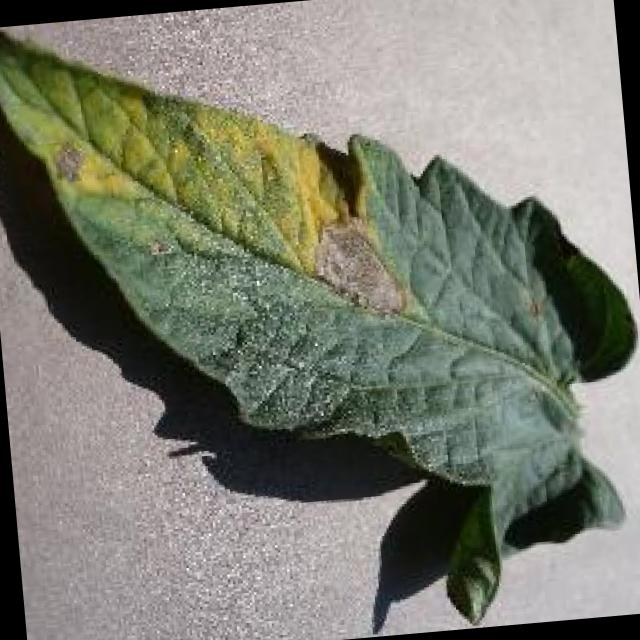Tomato_Early_Blight: (0, 0, 436, 357)
